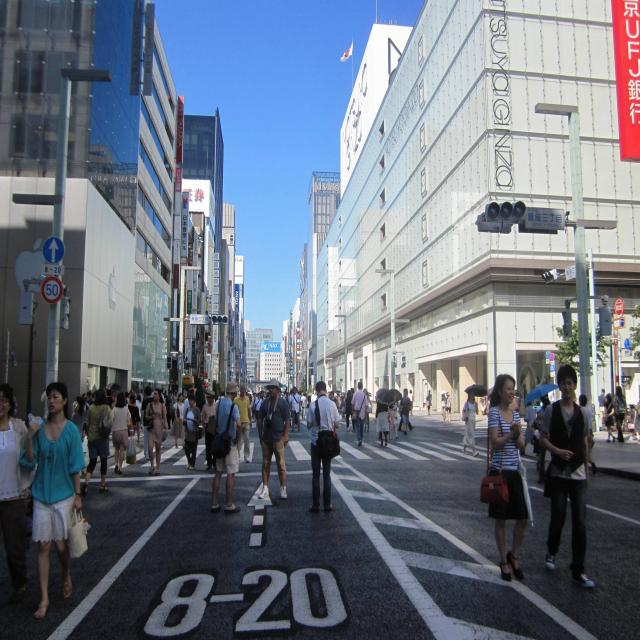body: (17, 381, 92, 620), (421, 384, 640, 456), (63, 374, 351, 428), (536, 361, 596, 591), (478, 371, 535, 583), (0, 381, 37, 614), (304, 380, 340, 513), (209, 380, 243, 514), (256, 378, 292, 500), (80, 386, 114, 496), (144, 388, 168, 475), (110, 392, 134, 475), (181, 393, 203, 472), (578, 394, 598, 476), (200, 389, 220, 471), (232, 382, 252, 463), (70, 395, 89, 476), (461, 389, 480, 458), (350, 381, 369, 447), (140, 386, 155, 460), (612, 384, 628, 443), (170, 392, 186, 449), (530, 404, 544, 469), (288, 386, 303, 432), (523, 401, 537, 450), (603, 393, 616, 444), (398, 393, 415, 432), (398, 388, 412, 435), (386, 392, 399, 440), (126, 394, 140, 438), (375, 401, 388, 447), (341, 389, 354, 433), (626, 405, 640, 442), (597, 388, 608, 431), (362, 388, 372, 425), (184, 388, 196, 418), (135, 394, 142, 443), (253, 392, 263, 422), (350, 387, 356, 433), (539, 394, 552, 412), (445, 391, 452, 422), (478, 395, 488, 416), (300, 392, 307, 420), (339, 395, 346, 422), (329, 390, 338, 410), (441, 393, 447, 422), (408, 389, 414, 417), (426, 390, 432, 416), (514, 389, 520, 412), (310, 389, 318, 403), (344, 395, 348, 416), (260, 392, 265, 402)
